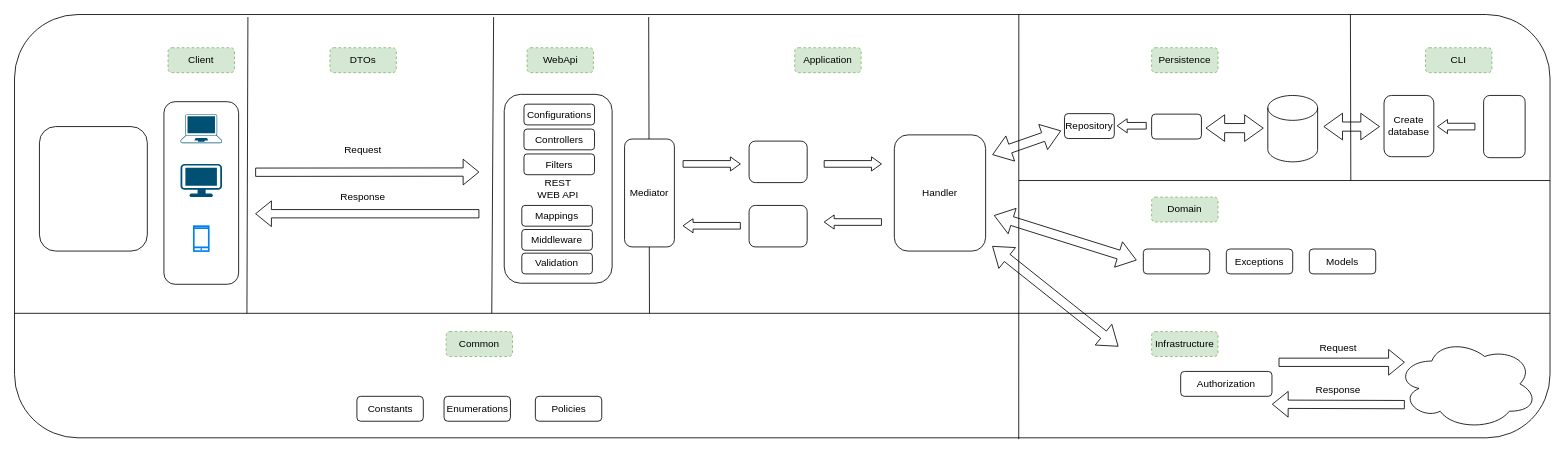
The diagram is 1565 pixels wide and 455 high, and some of its shapes have lost their labels. Each missing label, with the centre of its shape:
Blazor Web Assembly Application: pixel 93 188
Database: pixel 1292 128
EF Core: pixel 1176 126
Entities: pixel 1176 261
External API: pixel 1467 383
Query: pixel 777 161
Query Response: pixel 777 226
Scrape HTML: pixel 1504 126
